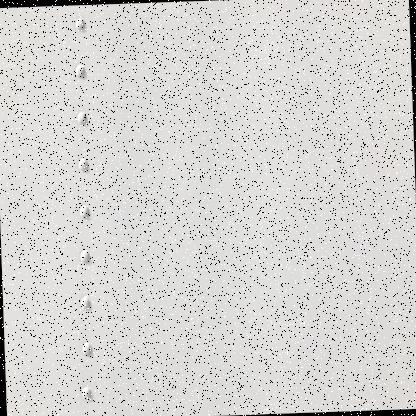Nocrack: (13, 33, 415, 411)
